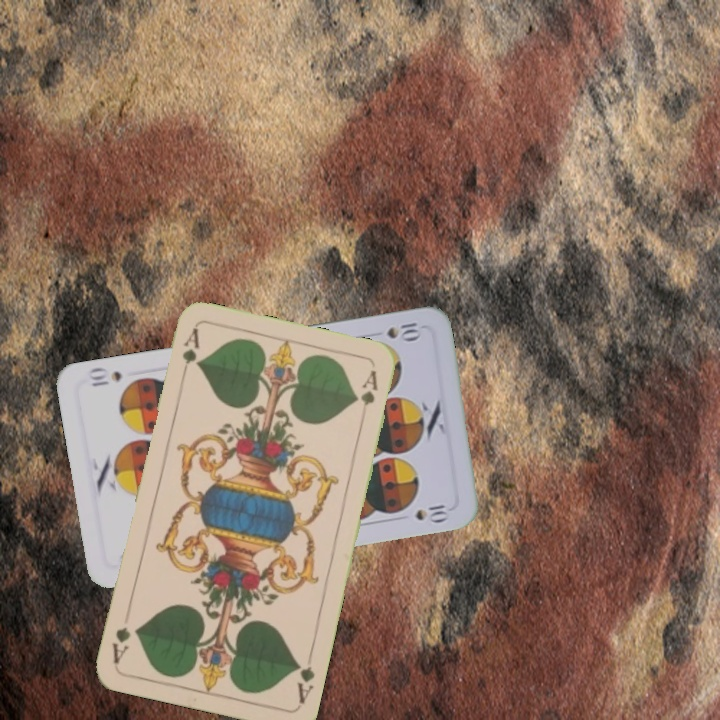GA: (177, 324, 202, 383), (291, 659, 317, 707)
S10: (382, 317, 425, 342)
